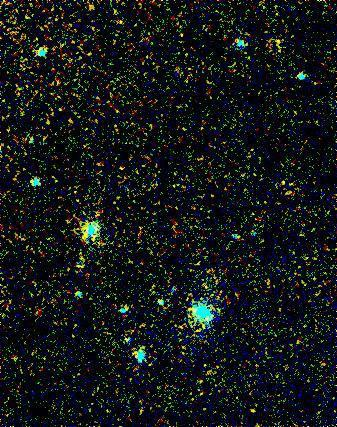star: (262, 27, 292, 57)
